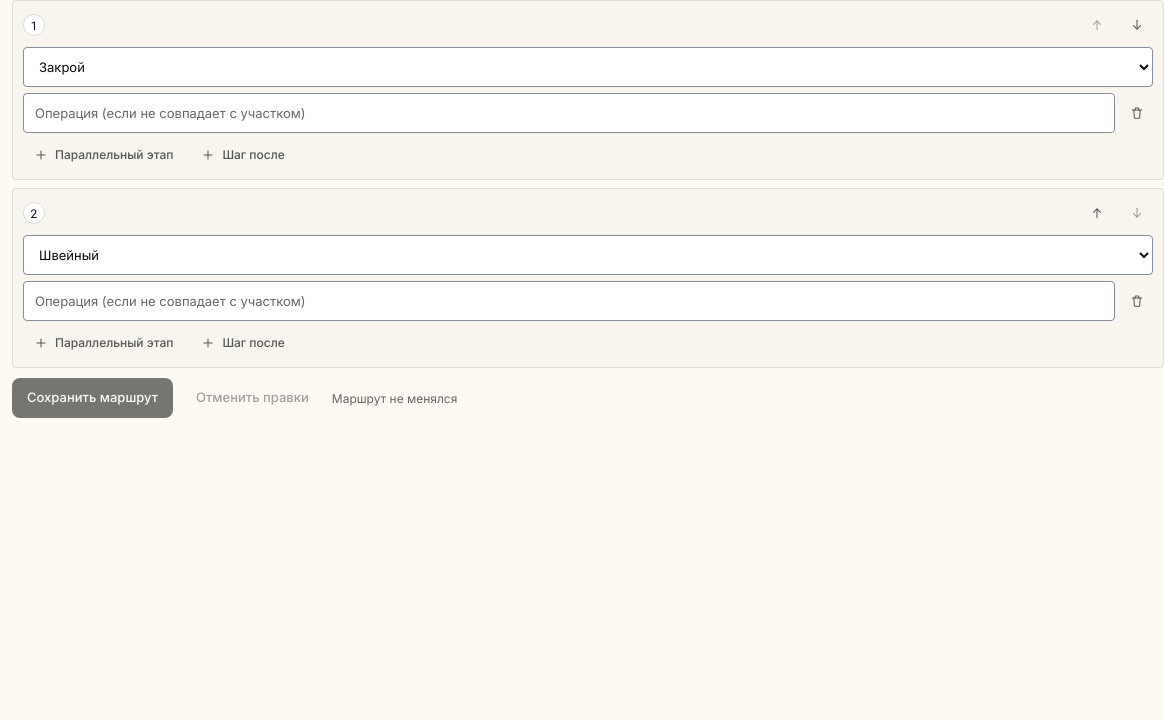
Test case: RouteEditor › подрядный этап без подрядчика сохранить нельзя
This screenshot has width=1164, height=720.
Select "Подряд" in the 1st dropdown named "Участок ответственности" at {"x": 588, "y": 67}, box [23, 47, 1153, 87]
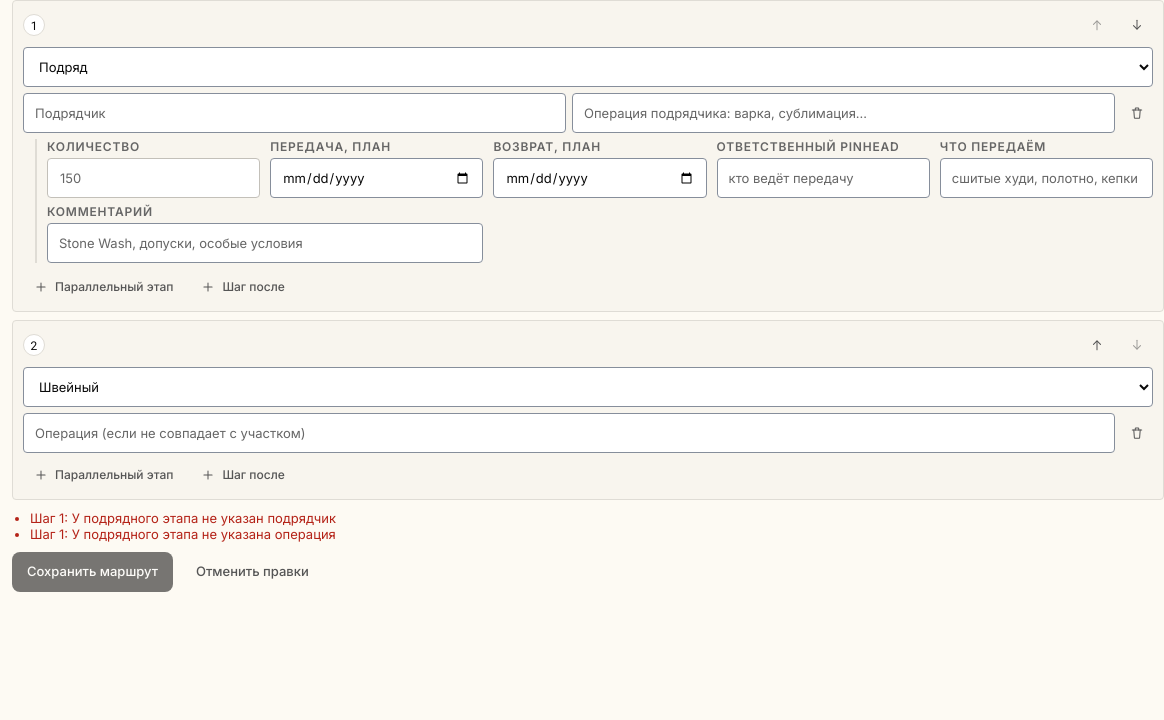
Expected: the button "Сохранить маршрут" is disabled, [12, 552, 173, 592]
Expected: the list item "Шаг 1: У подрядного этапа не указан подрядчик" is shown, [30, 510, 336, 526]
